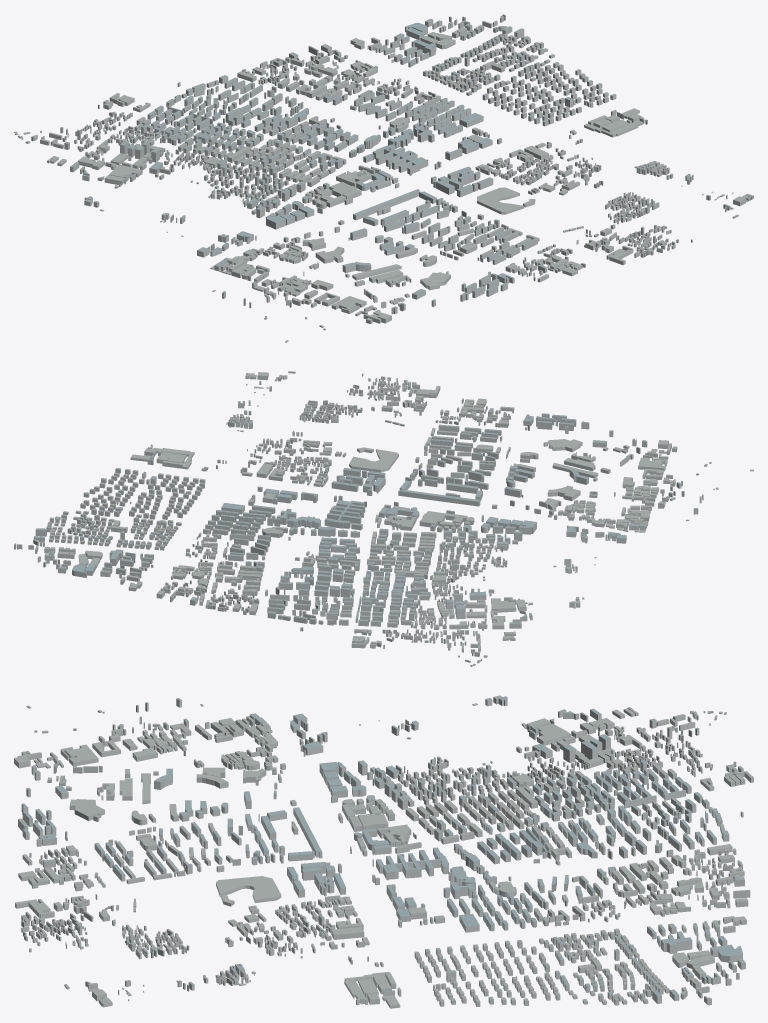
The model's file is far.glb.
3 views of the same model, one above another, from view 1: azimuth 30°, elevation 25°; view 2: azimuth 150°, elevation 25°; view 3: azimuth 270°, elevation 25° (orthographic). The views are drawn at different scales.
Size of the model in its own units: 2118 by 42.22 by 2149.
